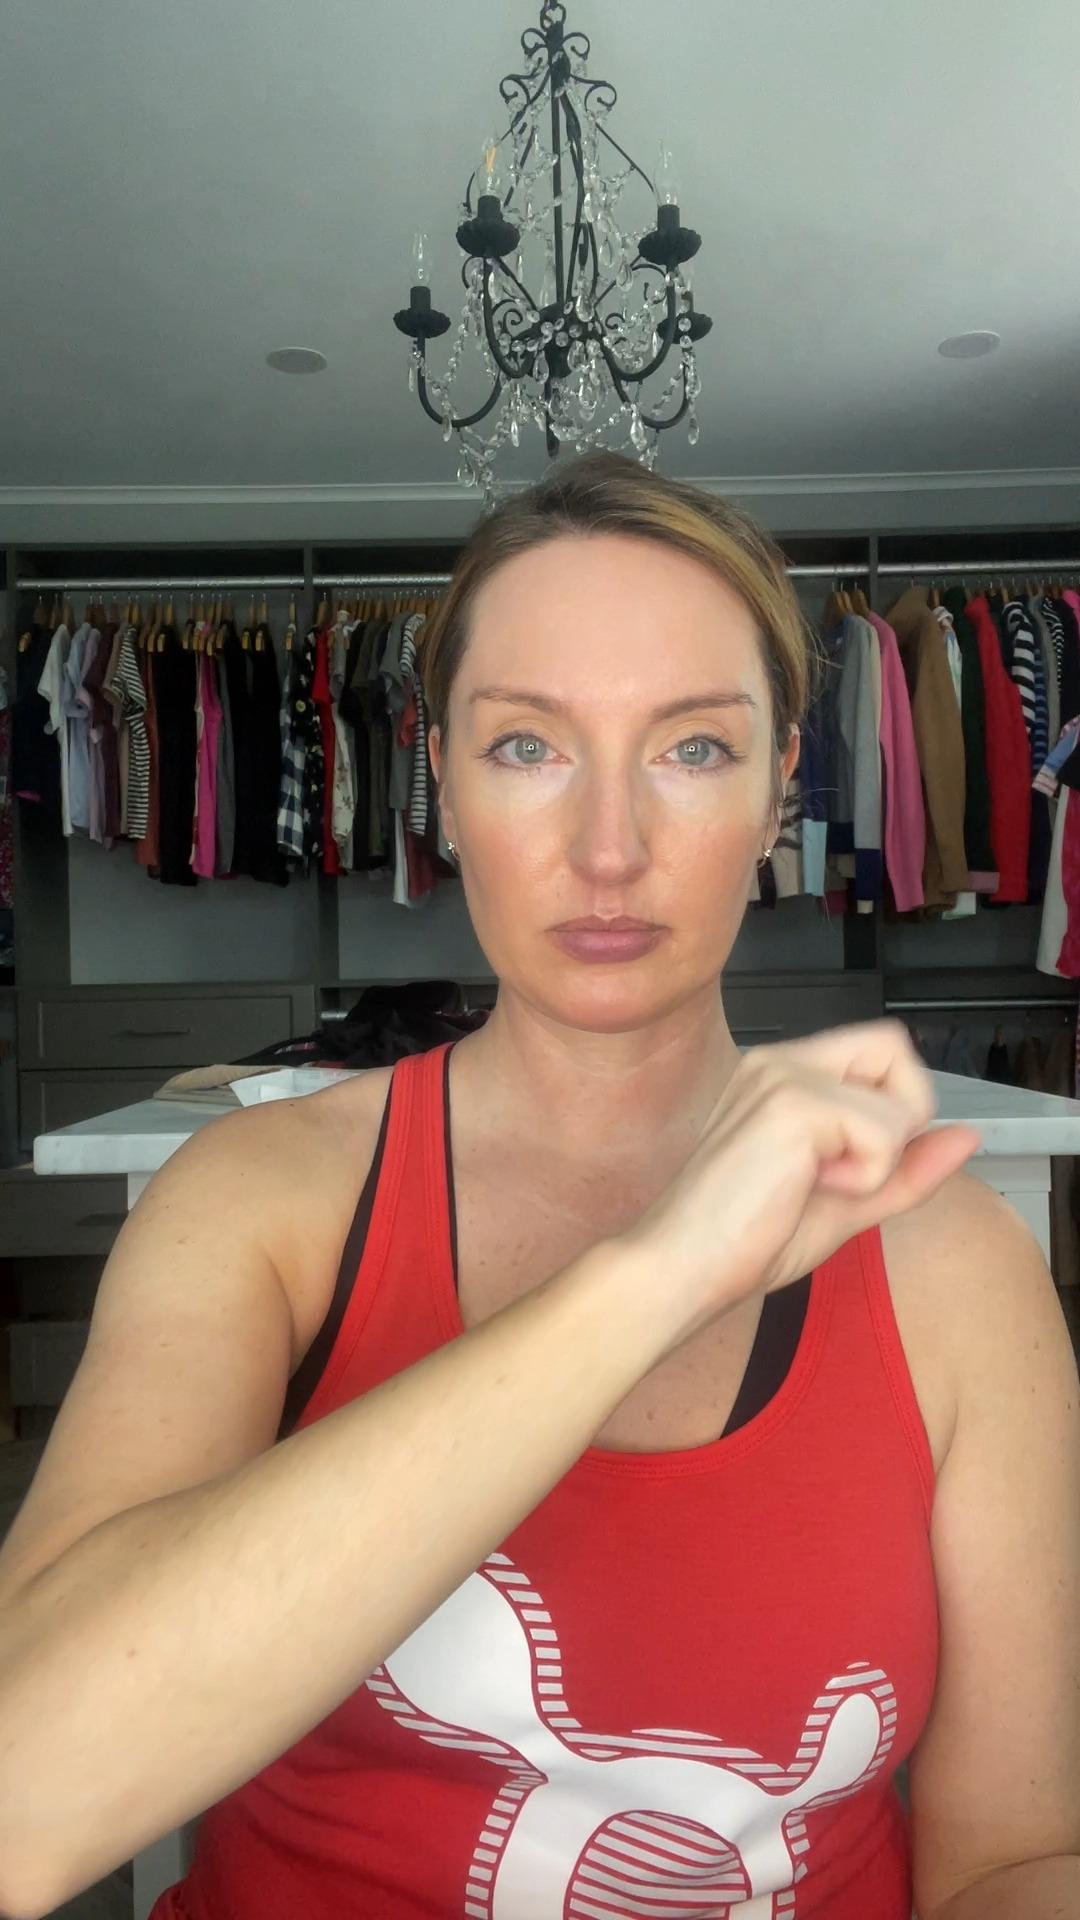Rock: (667, 1023, 967, 1342)
